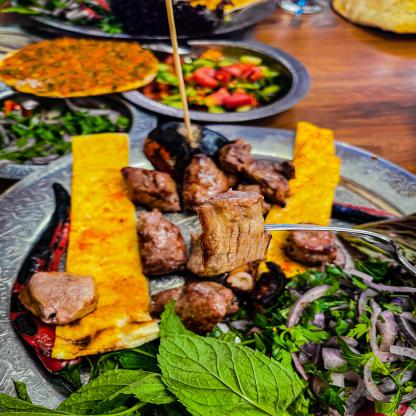Carne: (178, 160, 279, 272), (210, 138, 298, 201), (136, 203, 196, 271), (116, 155, 182, 213), (183, 149, 249, 201), (176, 279, 239, 329)
